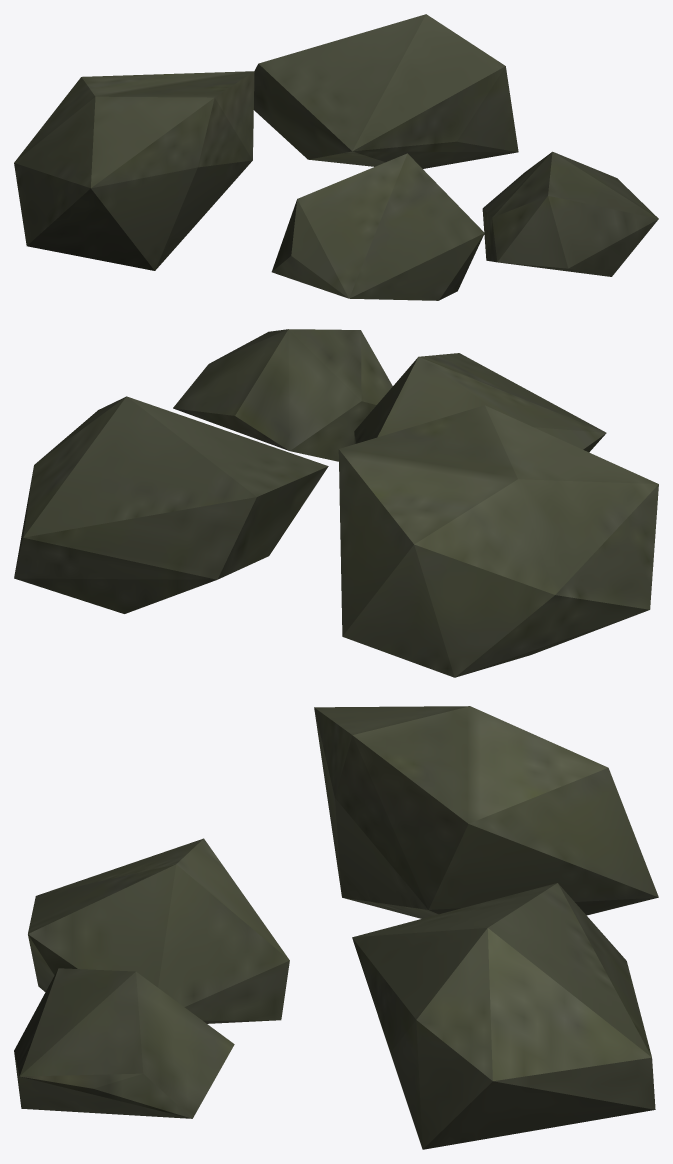
The model's file is lithium.glb.
3 renders of one model, top to bottom at view 1: azimuth 30°, elevation 25°; view 2: azimuth 150°, elevation 25°; view 3: azimuth 270°, elevation 25°, orthographic. The views are drawn at different scales.
Visible parts, largest first — view 1: lithium; view 2: lithium; view 3: lithium.
Boxes of the visible parts, bbox=[...] form: lithium: bbox=[14, 14, 658, 300]; lithium: bbox=[14, 329, 658, 677]; lithium: bbox=[14, 706, 658, 1149].
Bounding box in the file's own units: 0.2234 × 0.065 × 0.187.
1 material, 1 textured.
